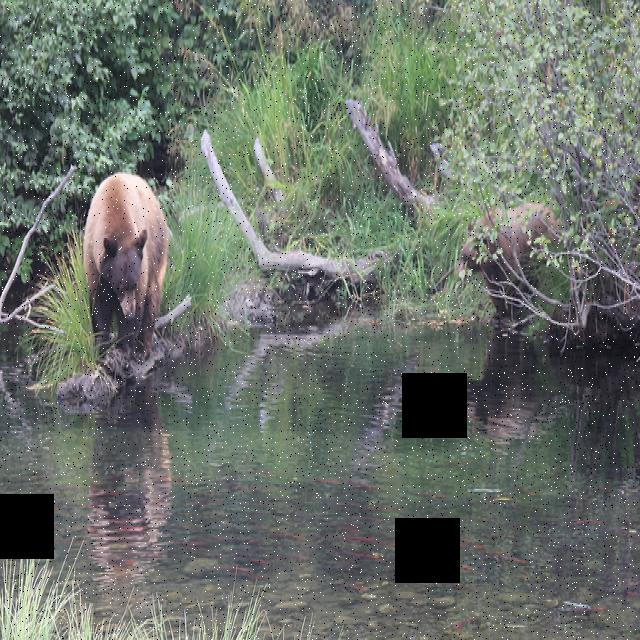Bear: (78, 171, 170, 352)
